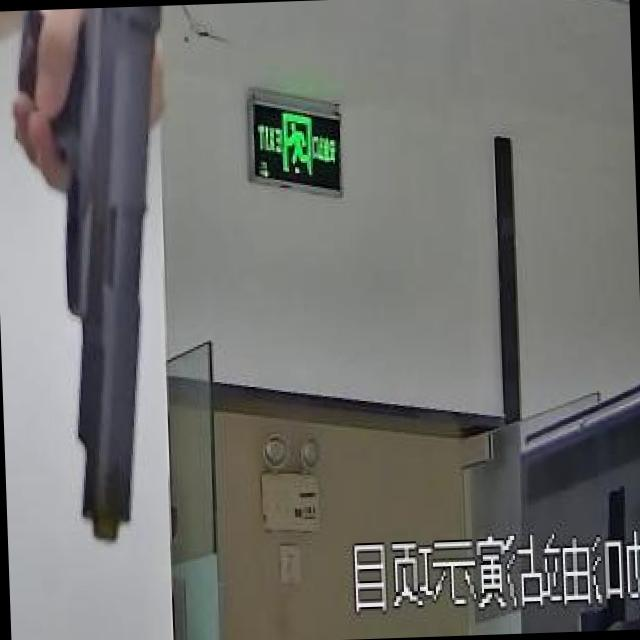Guns: (0, 4, 217, 577)
